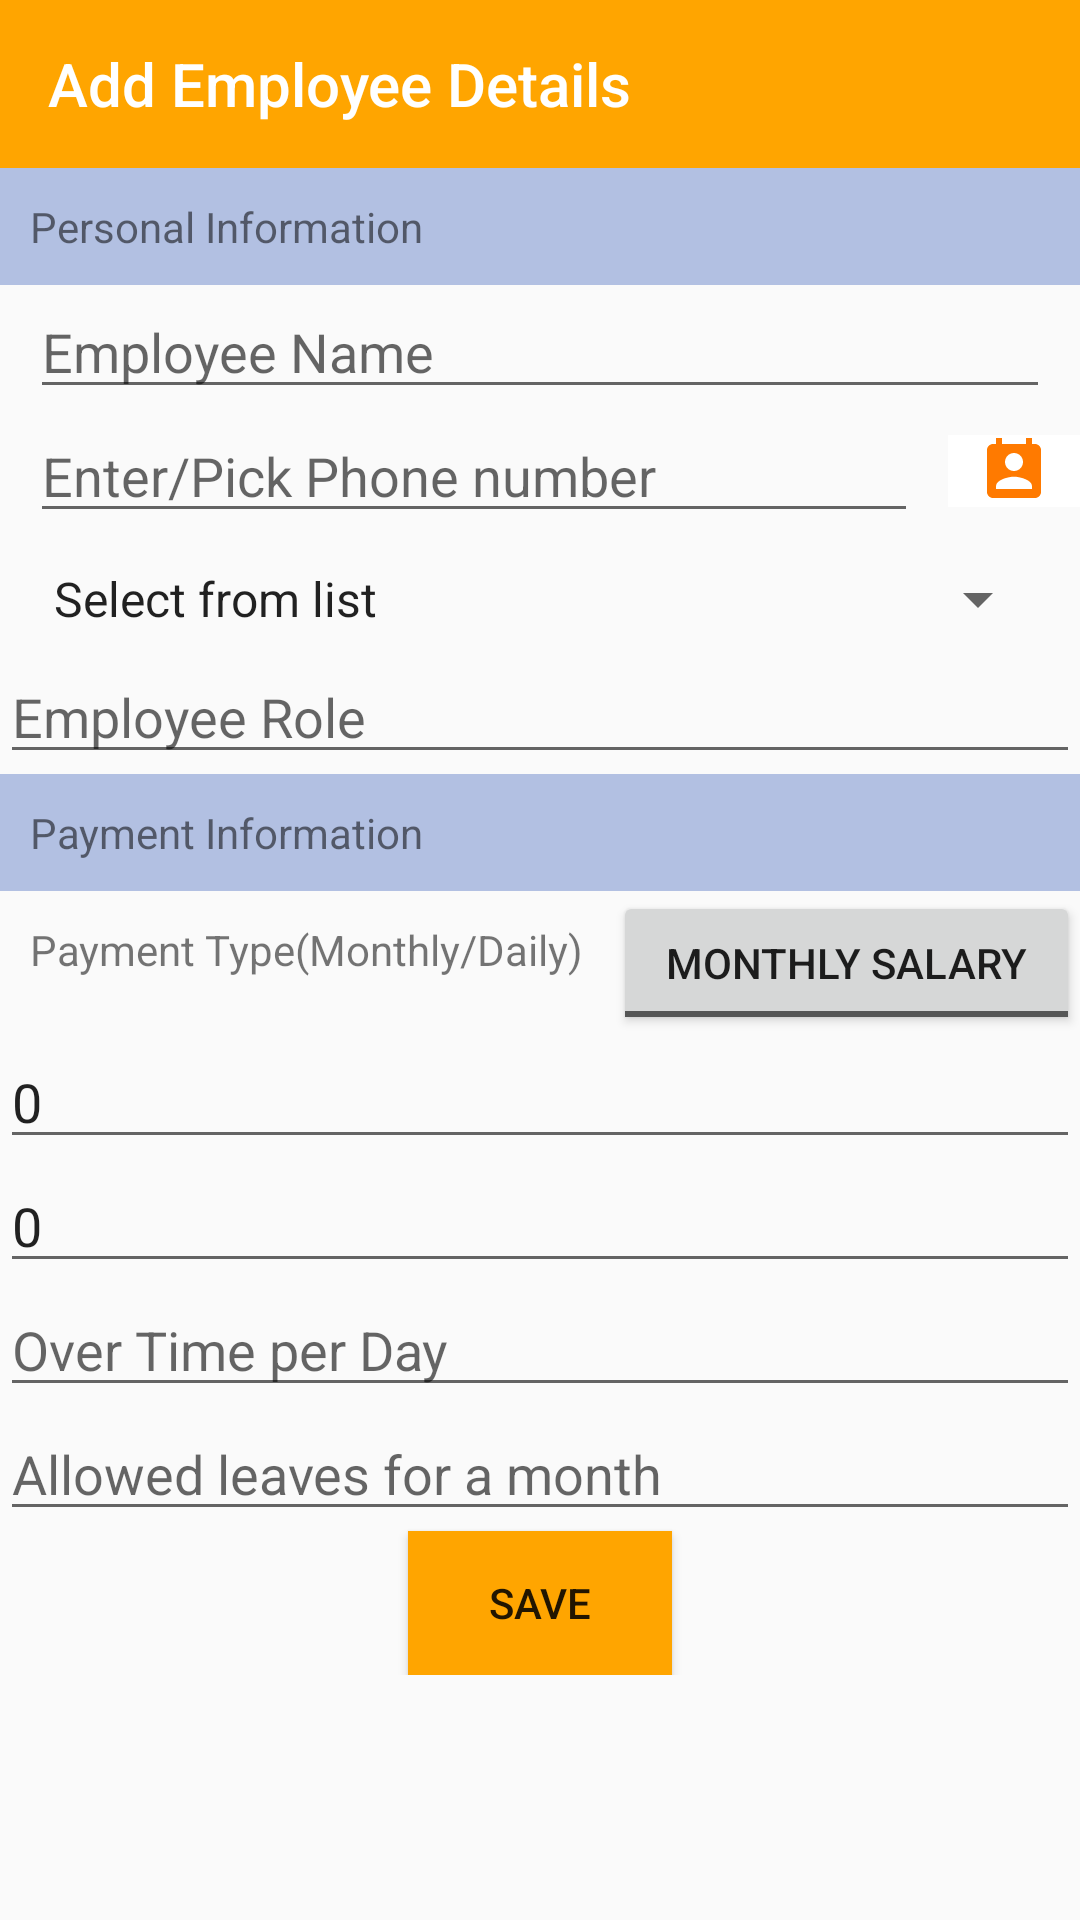

Icon bounding boxes for this 1080 × 1920 phone screenshot, format (x1, y1, x2, y2):
perm contact calendar: (987, 438, 1041, 498)
